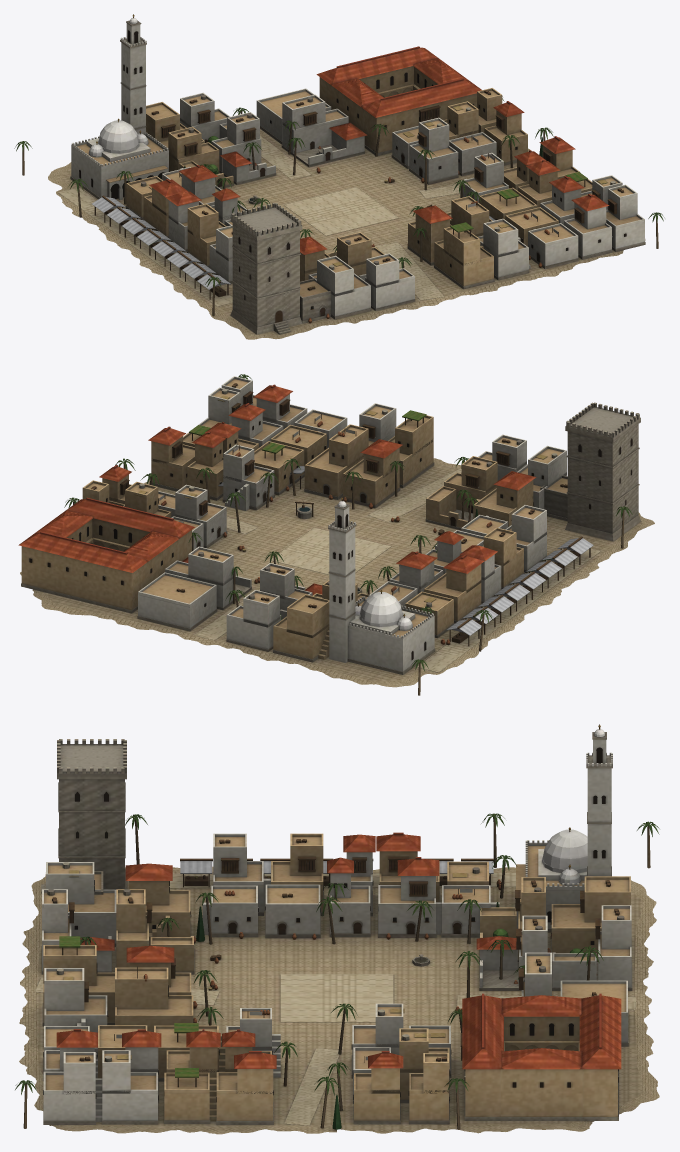
The model's file is kingdoms-town-big-b.glb.
The picture shows the model from 3 angles, top to bottom: view 1: azimuth 30°, elevation 25°; view 2: azimuth 150°, elevation 25°; view 3: azimuth 270°, elevation 25°; orthographic projection. The views are drawn at different scales.
Visible parts, largest first — view 1: LOD0; view 2: LOD0; view 3: LOD0.
Boxes of the visible parts, bbox=[...] form: LOD0: bbox=[14, 14, 664, 339]; LOD0: bbox=[18, 374, 654, 695]; LOD0: bbox=[15, 724, 659, 1134].
Size of what is drawn, in the model's own units: 8.13 by 2.82 by 8.12.
3 materials, 3 textured.
